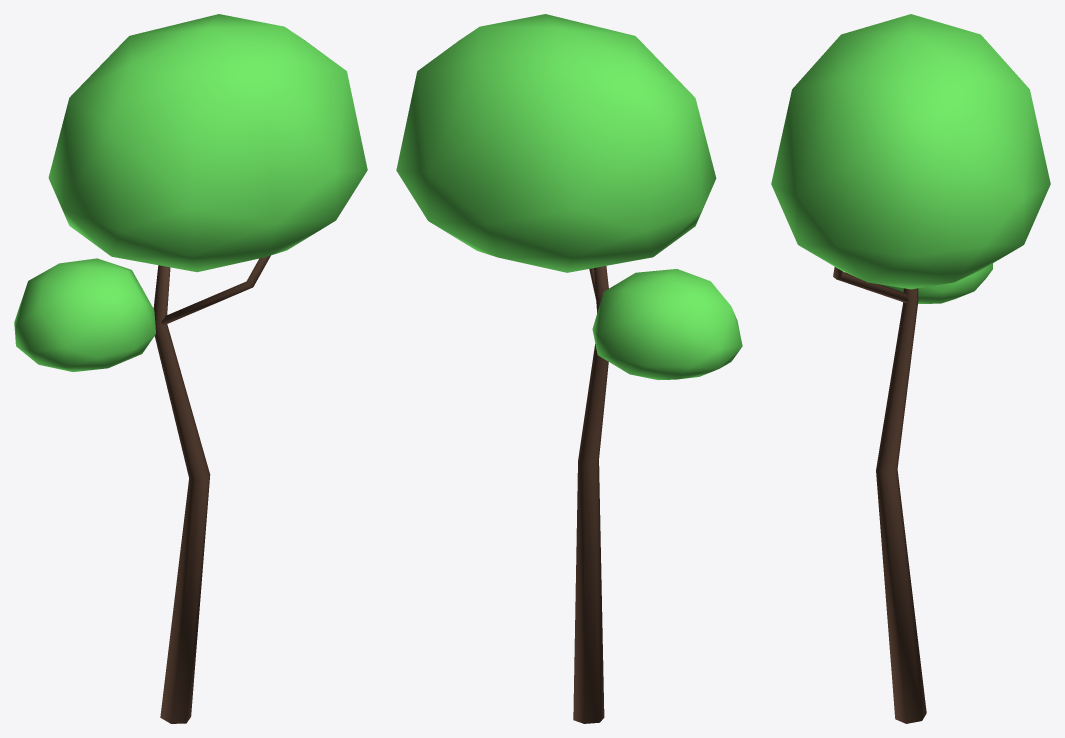
File: RoundTree_Medium2.fbx
3 renders of one model, left to right at view 1: azimuth 30°, elevation 25°; view 2: azimuth 150°, elevation 25°; view 3: azimuth 270°, elevation 25°, orthographic. The views are drawn at different scales.
Parts seen in each view (by area): view 1: RoundTree_Medium2.002, RoundTree_Medium2.001, RoundTree_Medium2; view 2: RoundTree_Medium2.002, RoundTree_Medium2.001, RoundTree_Medium2; view 3: RoundTree_Medium2.002, RoundTree_Medium2, RoundTree_Medium2.001.
Part boxes in pixels (x1,y1,x2,y2): RoundTree_Medium2.002: (48, 14, 367, 272); RoundTree_Medium2.001: (14, 258, 155, 371); RoundTree_Medium2: (153, 255, 270, 723); RoundTree_Medium2.002: (396, 14, 716, 272); RoundTree_Medium2.001: (592, 269, 742, 380); RoundTree_Medium2: (573, 266, 608, 723); RoundTree_Medium2.002: (771, 14, 1050, 289); RoundTree_Medium2: (833, 267, 926, 723); RoundTree_Medium2.001: (883, 263, 992, 303).
Size of the model in its own units: 618 by 1230 by 446.
